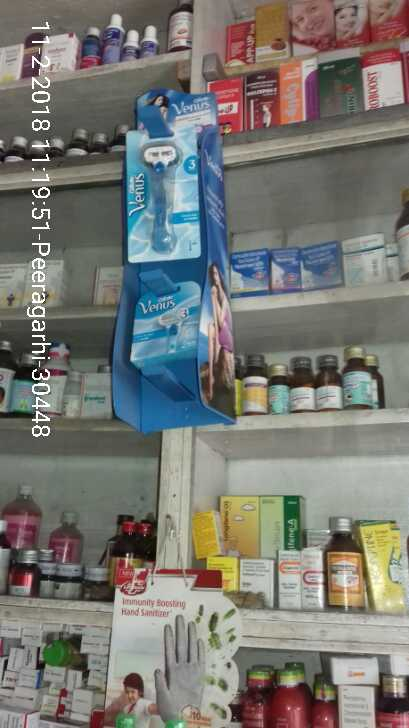venus: (126, 131, 204, 258), (129, 277, 200, 365)
